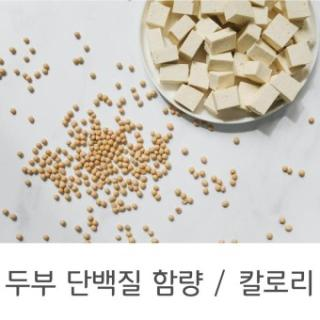Tahu: (146, 1, 316, 116)
